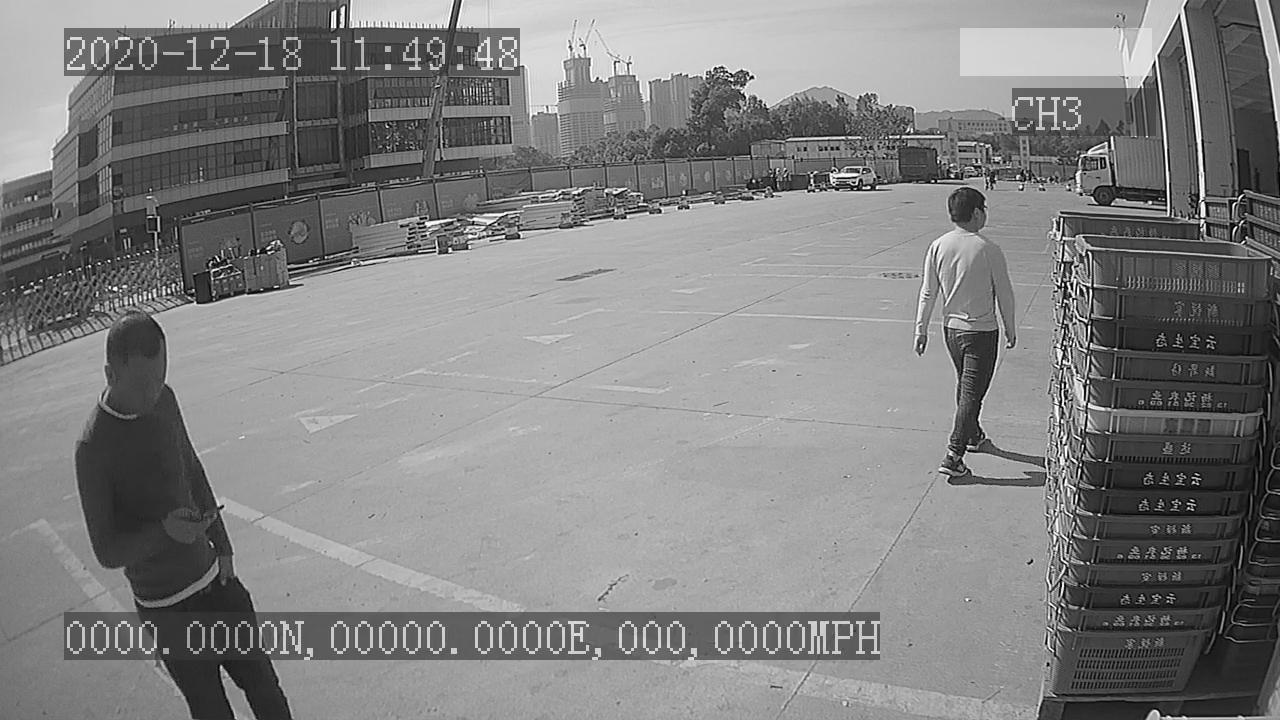person: (904, 179, 1020, 485)
